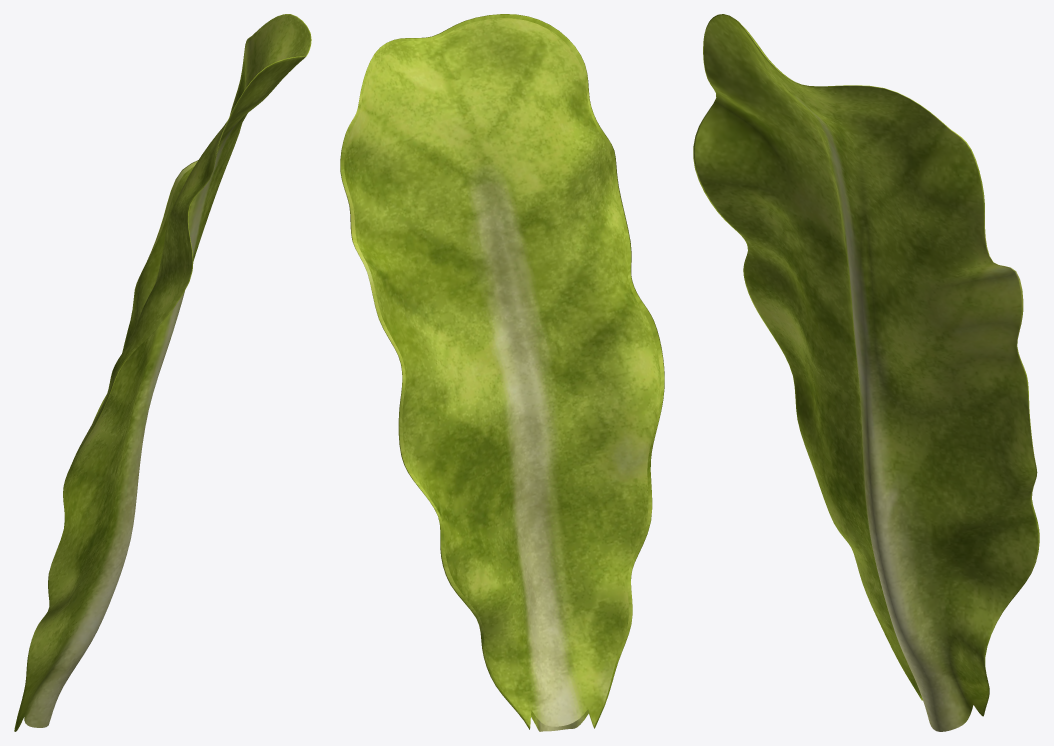
The model's file is folhaAlface1.fbx.
3 views of the same model, side by side, from view 1: azimuth 30°, elevation 25°; view 2: azimuth 150°, elevation 25°; view 3: azimuth 270°, elevation 25° (orthographic). The views are drawn at different scales.
Parts seen in each view (by area): view 1: LettuceRomaine.001; view 2: LettuceRomaine.001; view 3: LettuceRomaine.001.
Boxes of the visible parts, x1,y1,x2,y2 form: LettuceRomaine.001: (14, 14, 311, 731); LettuceRomaine.001: (340, 14, 664, 731); LettuceRomaine.001: (693, 14, 1039, 731).
Bounding box in the file's own units: 51.97 × 126 × 50.45.
